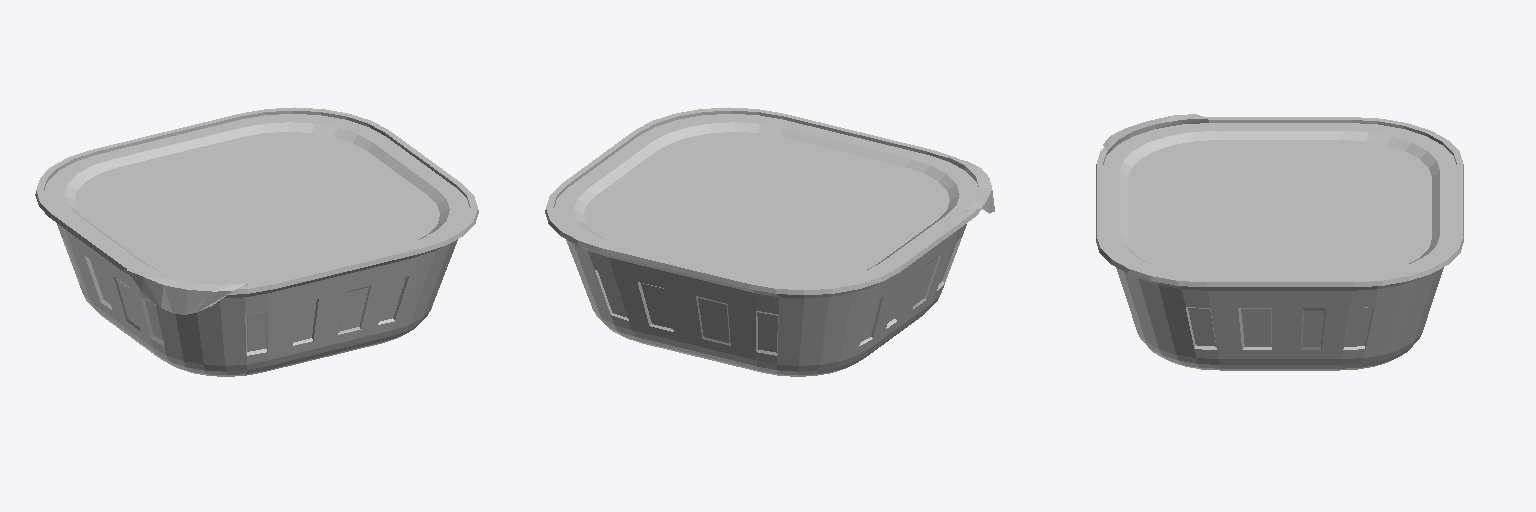
Rendered from Lata.obj.
The picture shows the model from 3 angles: view 1: azimuth 30°, elevation 25°; view 2: azimuth 150°, elevation 25°; view 3: azimuth 270°, elevation 25°; orthographic projection.
Parts seen in each view (by area): view 1: Lata; view 2: Lata; view 3: Lata.
Boxes of the visible parts, x1=… form: Lata: x1=35, y1=107, x2=478, y2=376; Lata: x1=545, y1=107, x2=994, y2=376; Lata: x1=1096, y1=114, x2=1463, y2=370.
Bounding box in the file's own units: 8.09 × 2.67 × 7.53.